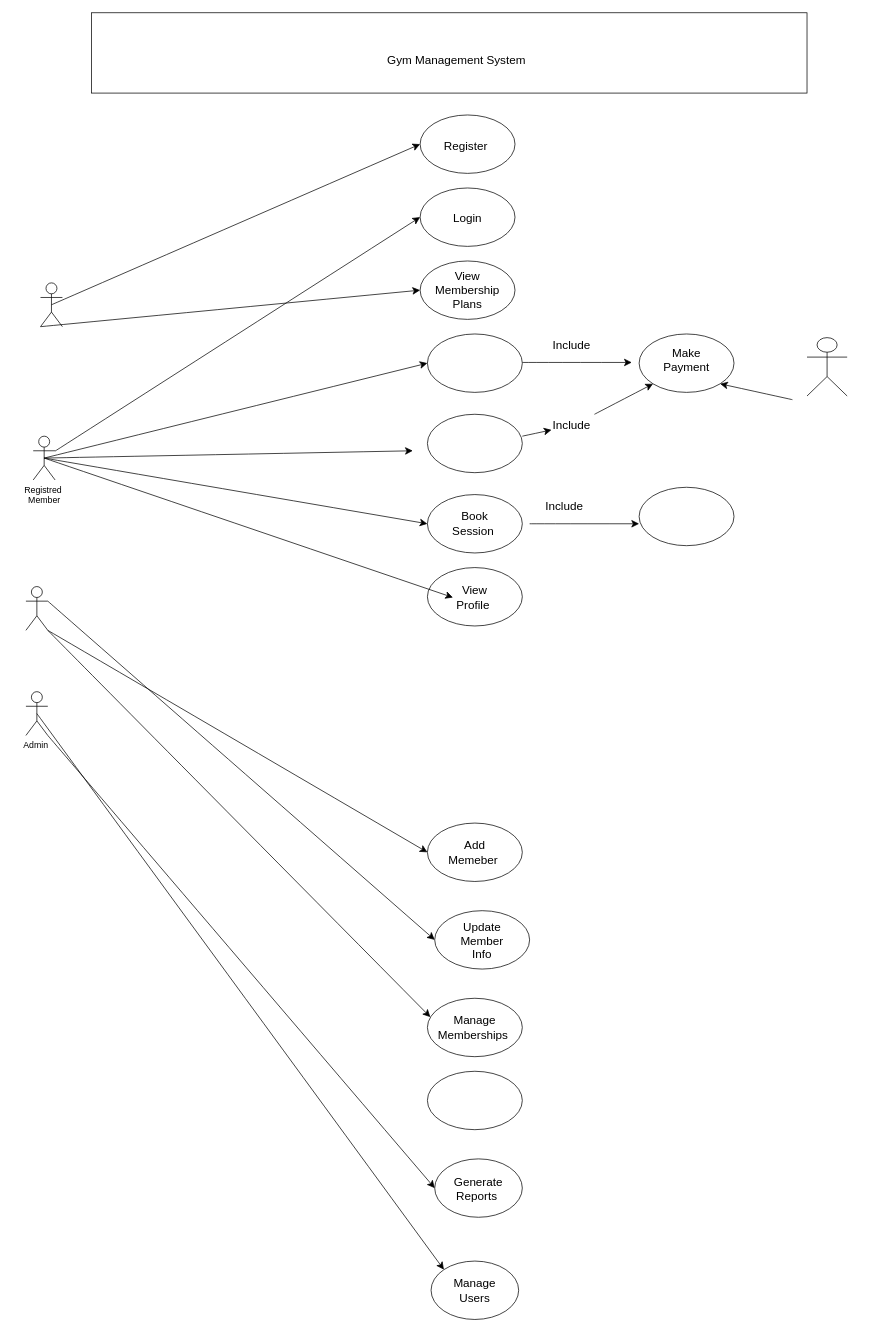
Image size: 872x1332. Some labels were removed from this diagram. The shapes that lost their labels are listed below. From the top down, each one's box as (x1, y1, x2, y2) in pixels, then its label:
(40, 282, 62, 327): Member
(427, 333, 522, 392): Join Membership
(806, 337, 847, 396): Payment System
(427, 414, 522, 473): Renew Membership
(638, 487, 734, 546): View Schedule
(25, 586, 48, 630): Receptionist
(427, 1071, 522, 1130): Manage Class Schedule
